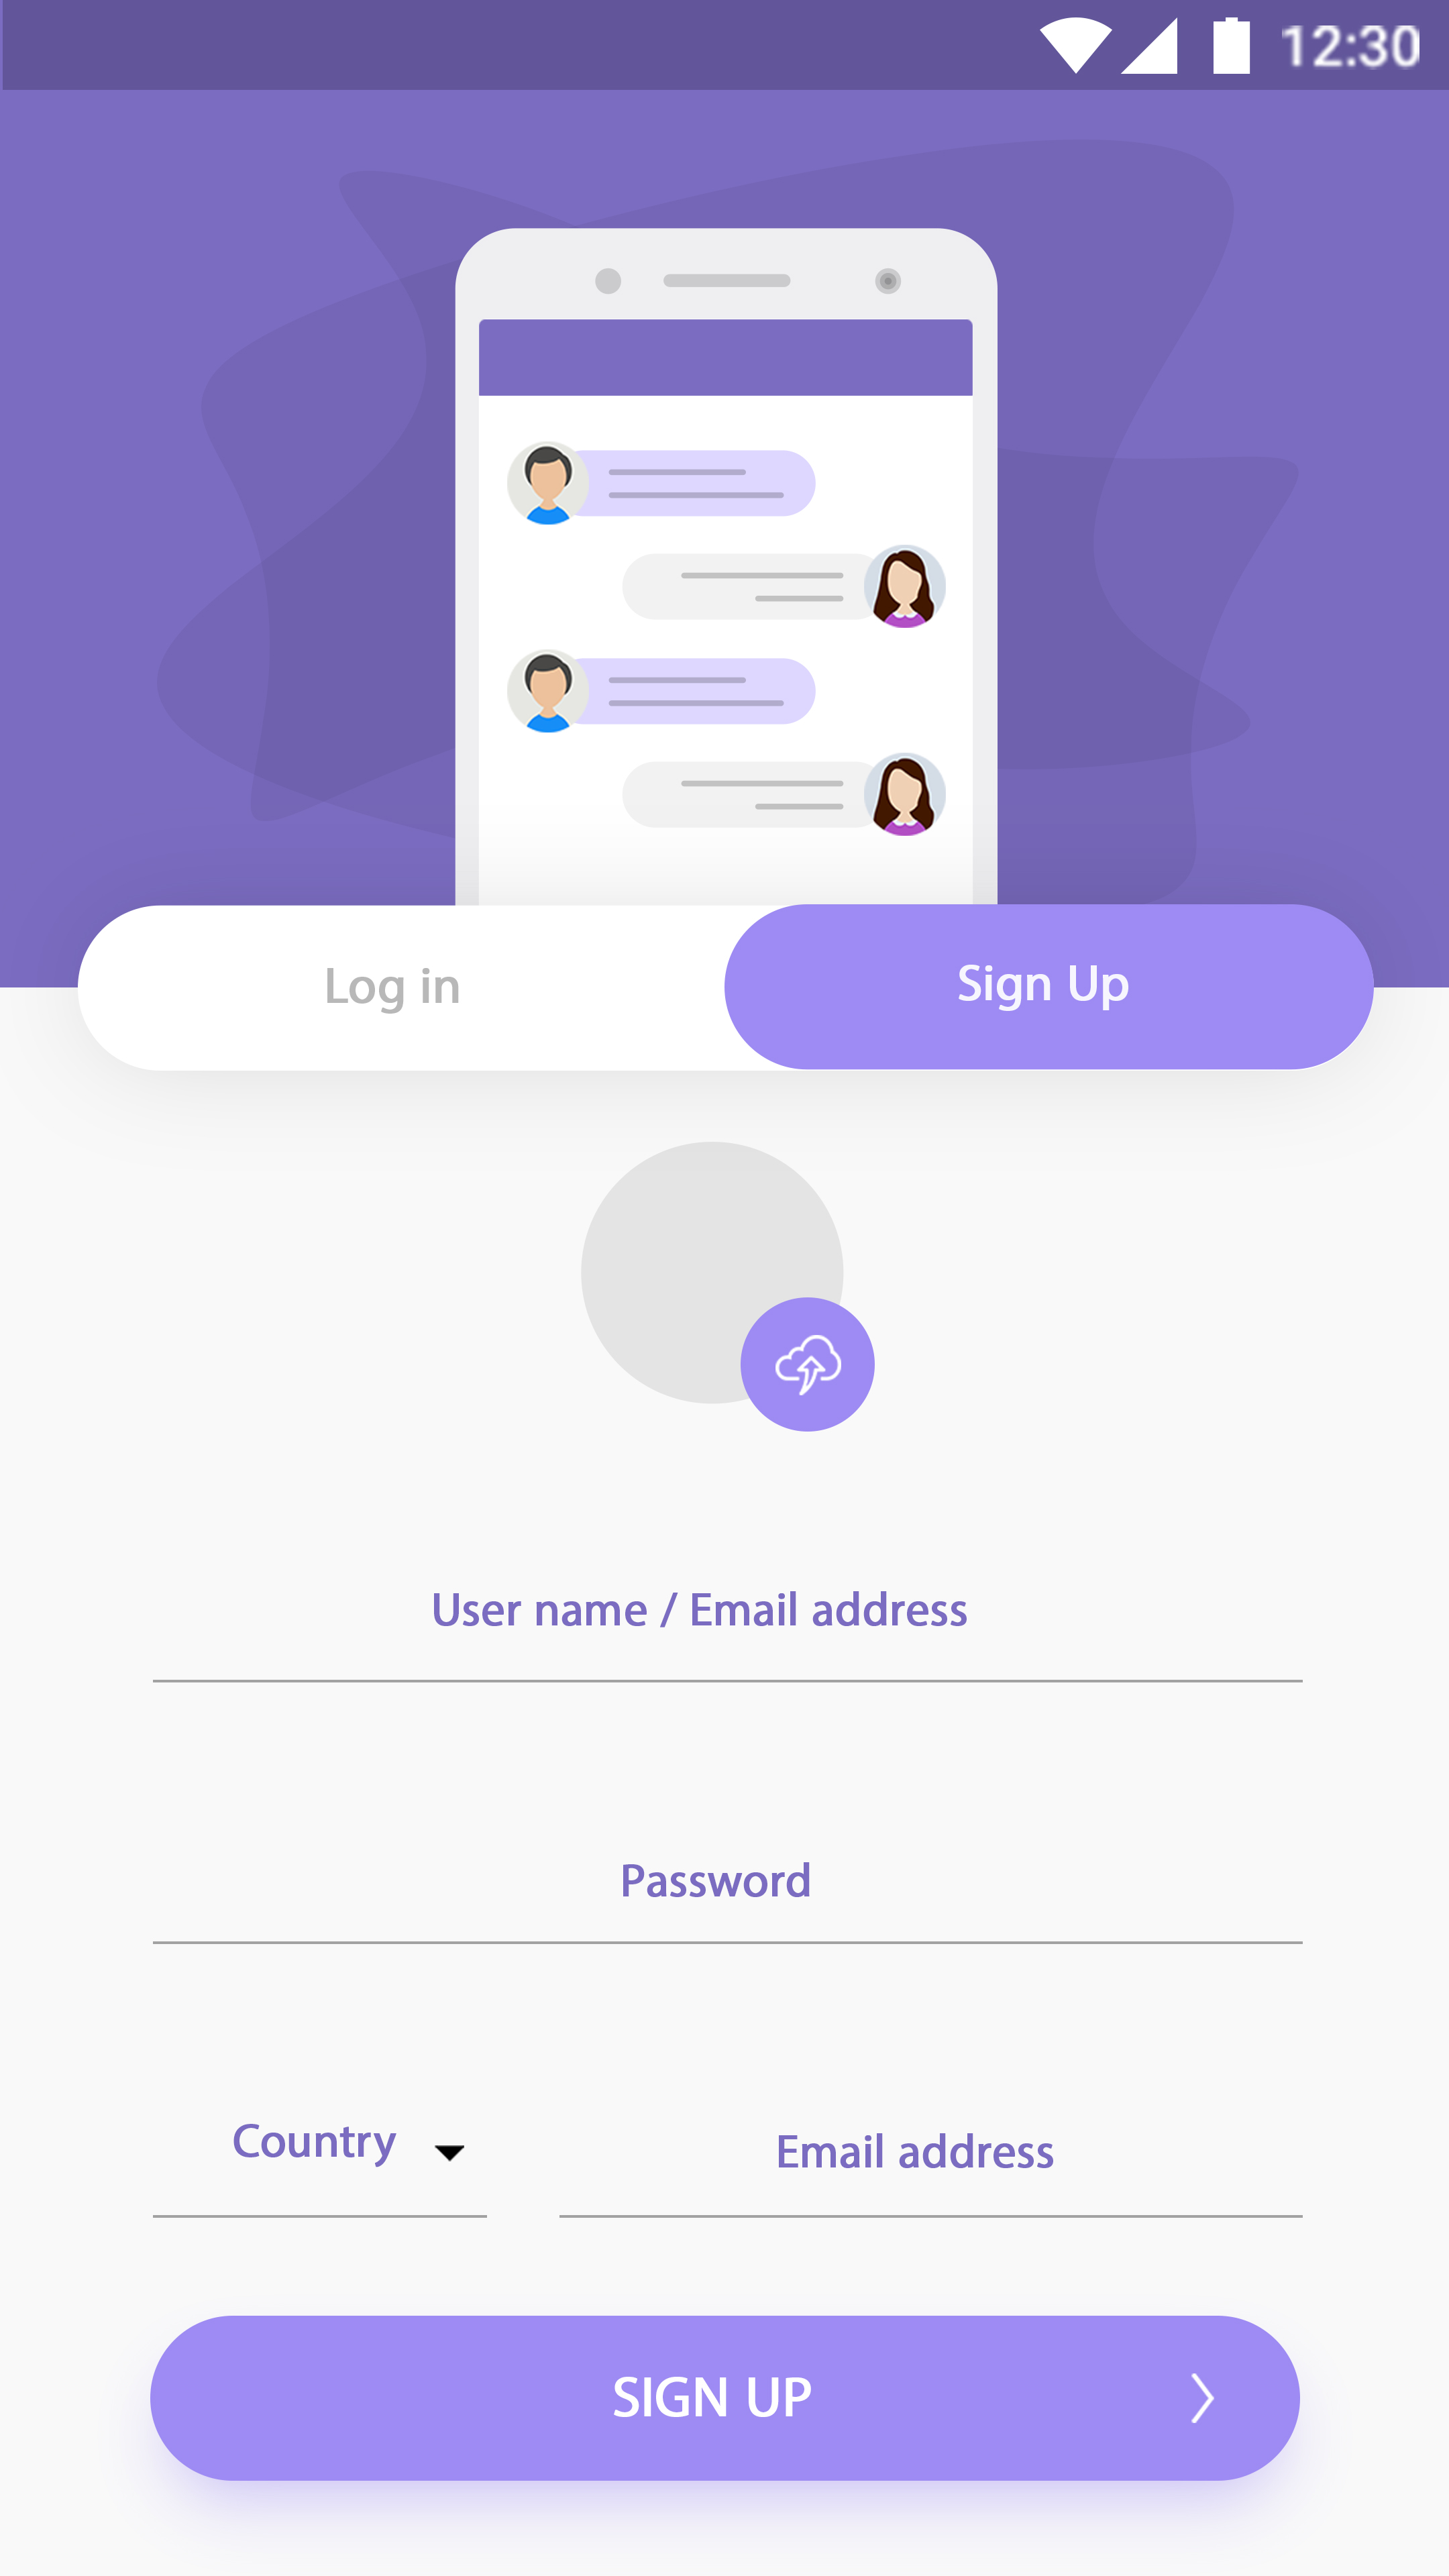EditText: (152, 1591, 1304, 1684), (152, 1861, 1304, 1944), (559, 2132, 1304, 2219), (152, 2123, 488, 2219)
Image: (455, 228, 1000, 904), (580, 1141, 876, 1433)
Text: (433, 1591, 968, 1628), (623, 1861, 810, 1898)
TextButton: (150, 2316, 1300, 2482), (78, 904, 724, 1072), (724, 904, 1375, 1070)
UpperTaskBar: (0, 0, 1449, 90)
